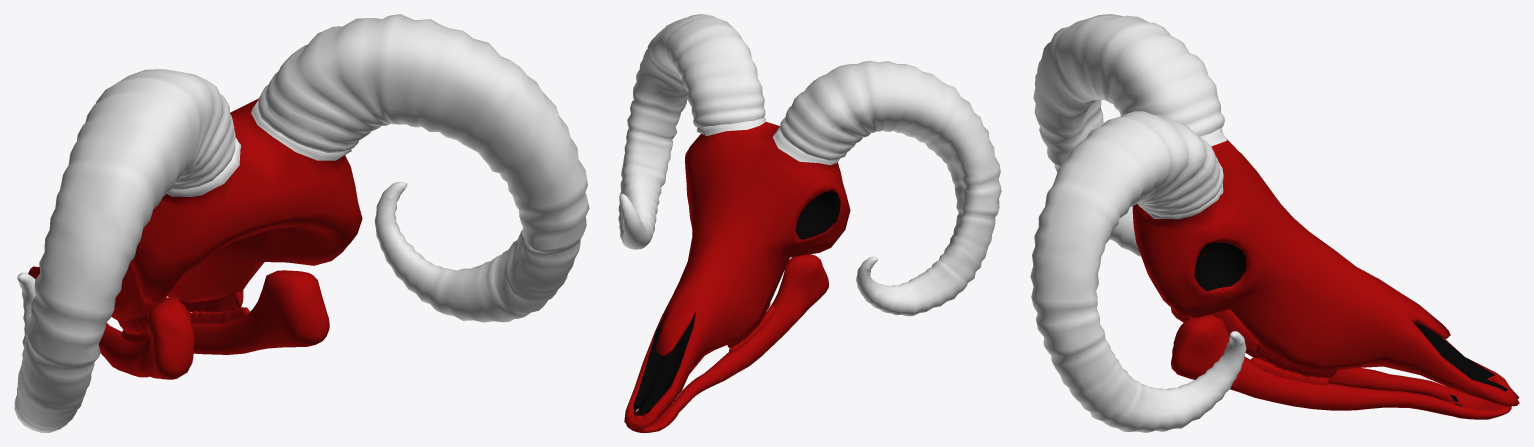
The model's file is demon goat.fbx.
3 renders of one model, left to right at view 1: azimuth 30°, elevation 25°; view 2: azimuth 150°, elevation 25°; view 3: azimuth 270°, elevation 25°, orthographic. The views are drawn at different scales.
Parts seen in each view (by area): view 1: goat_skull; view 2: goat_skull; view 3: goat_skull.
Part boxes in pixels (box(x1,y1,x2,y2)): goat_skull: box(14, 14, 589, 432); goat_skull: box(618, 14, 1001, 432); goat_skull: box(1030, 14, 1519, 432).
Size of the model in its own units: 861 by 624 by 810.
